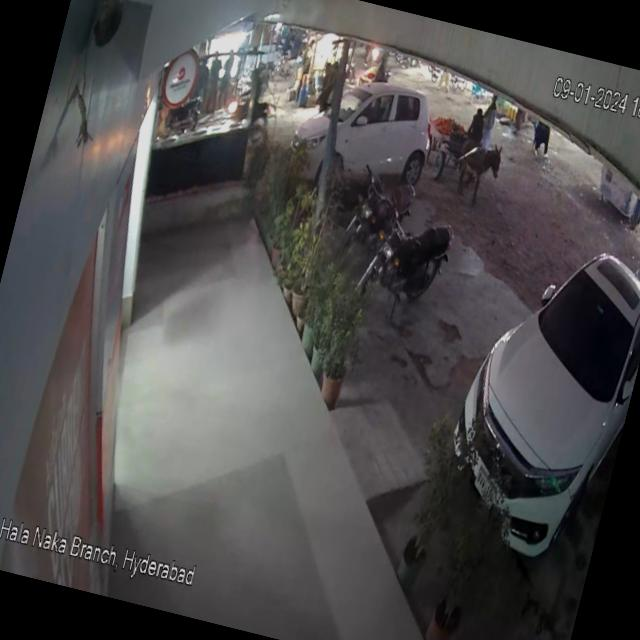Car: (424, 185, 640, 583), (266, 45, 448, 197)
Motorcycle: (344, 198, 461, 318), (342, 162, 425, 263)
